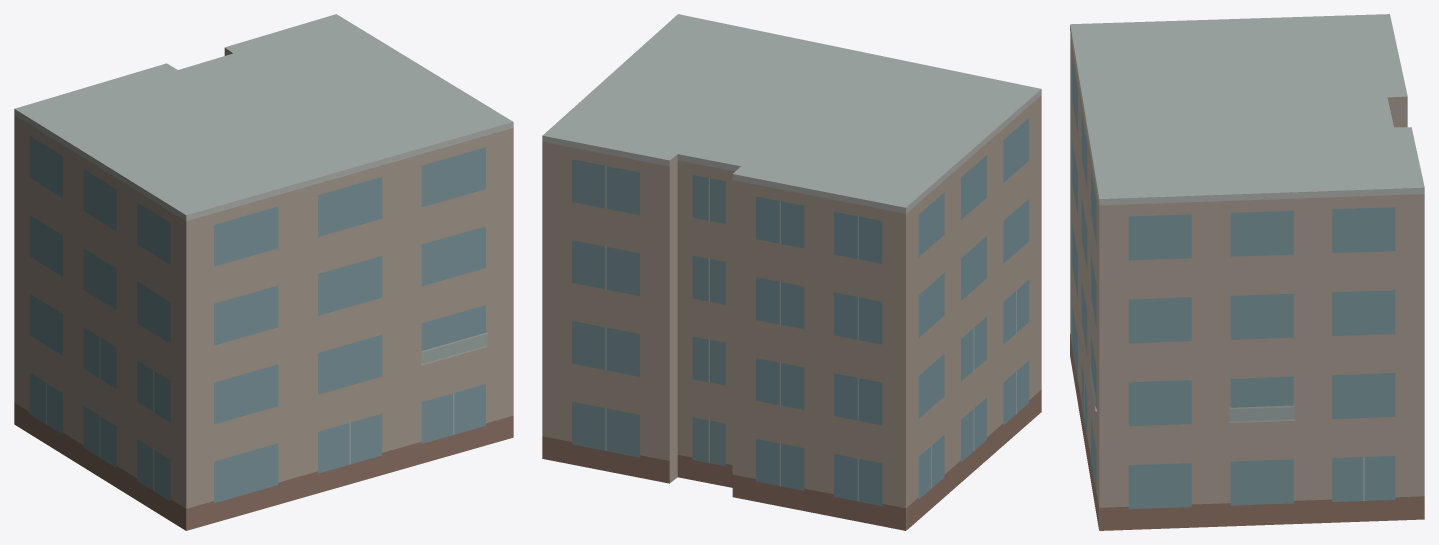
The model's file is survey-upis-32723252.glb.
3 views of the same model, side by side, from view 1: azimuth 30°, elevation 25°; view 2: azimuth 150°, elevation 25°; view 3: azimuth 270°, elevation 25° (orthographic). The views are drawn at different scales.
Parts seen in each view (by area): view 1: survey-upis-32723252.tmp; view 2: survey-upis-32723252.tmp; view 3: survey-upis-32723252.tmp.
Part boxes in pixels (left/top/right/bottom): survey-upis-32723252.tmp: left=14, top=14, right=513, bottom=530; survey-upis-32723252.tmp: left=542, top=14, right=1041, bottom=530; survey-upis-32723252.tmp: left=1070, top=14, right=1424, bottom=530.
Bounding box in the file's own units: 15.33 × 12.8 × 12.41.
